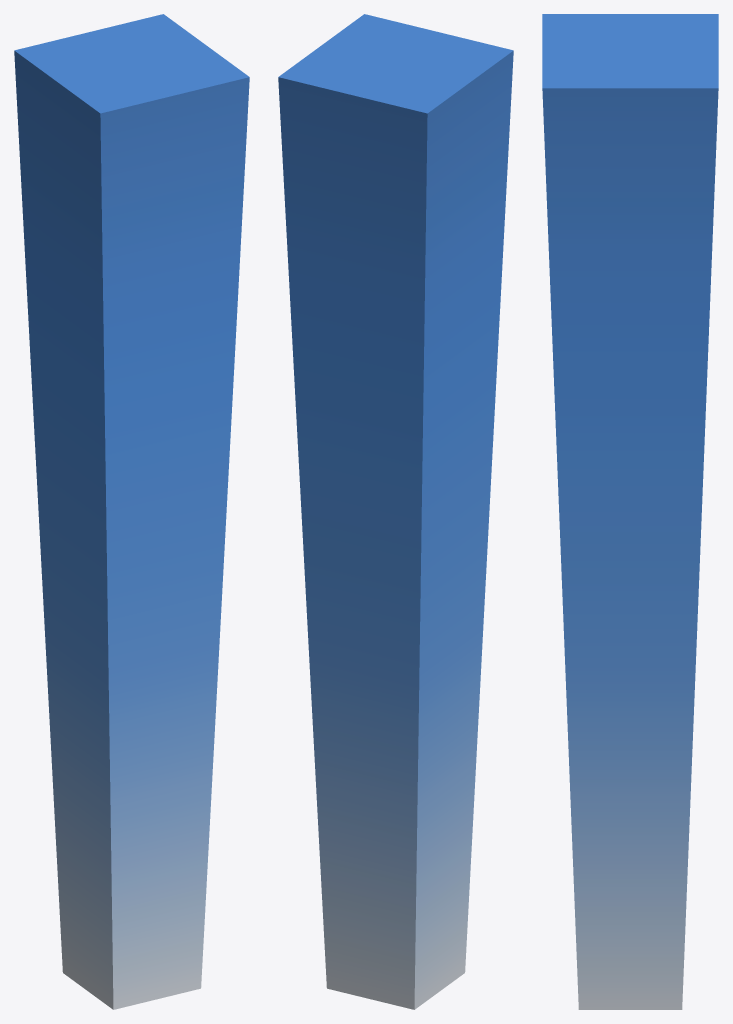
File: BuildingBox.fbx
3 renders of one model, left to right at view 1: azimuth 30°, elevation 25°; view 2: azimuth 150°, elevation 25°; view 3: azimuth 270°, elevation 25°, orthographic. The views are drawn at different scales.
Visible parts, largest first — view 1: BuildingBox; view 2: BuildingBox; view 3: BuildingBox.
Boxes of the visible parts, x1=… form: BuildingBox: x1=14, y1=14, x2=249, y2=1009; BuildingBox: x1=278, y1=14, x2=513, y2=1009; BuildingBox: x1=542, y1=14, x2=718, y2=1009.
Bounding box in the file's own units: 85.22 × 500 × 85.22.
